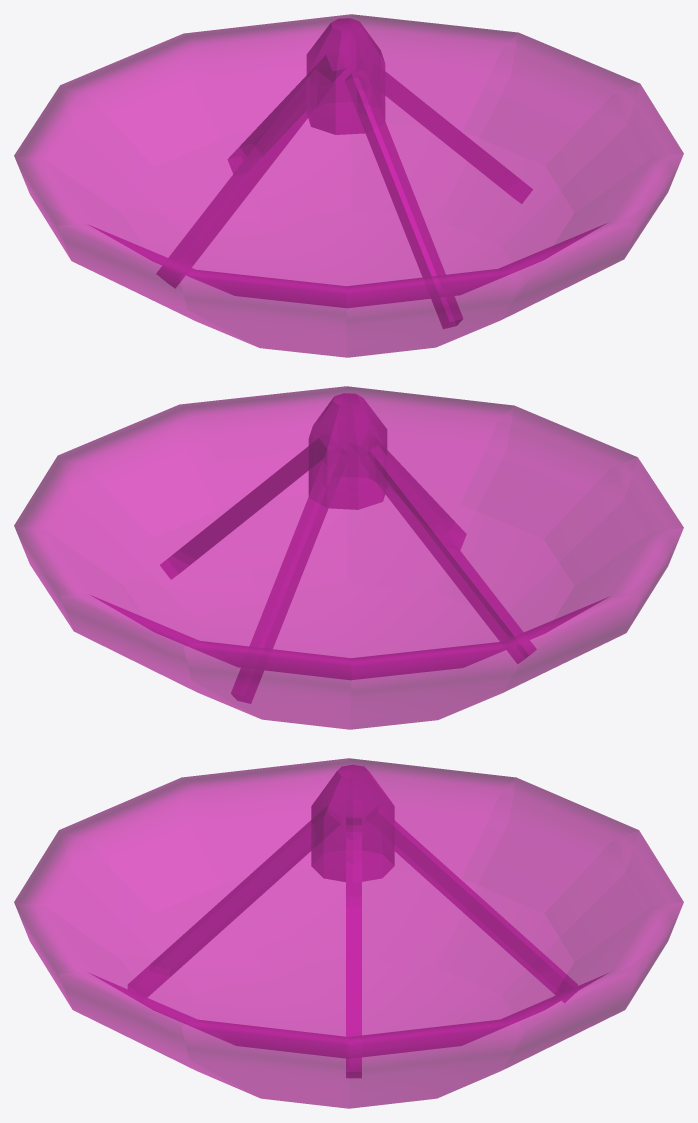
The model's file is SM_Prop_Satellite_Large_01_Frame_01_Collision.fbx.
The picture shows the model from 3 angles, top to bottom: view 1: azimuth 30°, elevation 25°; view 2: azimuth 150°, elevation 25°; view 3: azimuth 270°, elevation 25°; orthographic projection.
Parts seen in each view (by area): view 1: SM_Prop_Satellite_Large_01_Frame_01_Collision; view 2: SM_Prop_Satellite_Large_01_Frame_01_Collision; view 3: SM_Prop_Satellite_Large_01_Frame_01_Collision.
Part boxes in pixels (x1=…): SM_Prop_Satellite_Large_01_Frame_01_Collision: x1=14, y1=14, x2=683, y2=357; SM_Prop_Satellite_Large_01_Frame_01_Collision: x1=14, y1=386, x2=683, y2=729; SM_Prop_Satellite_Large_01_Frame_01_Collision: x1=14, y1=758, x2=683, y2=1108.
Bounding box in the file's own units: 2926 × 1512 × 2878.
